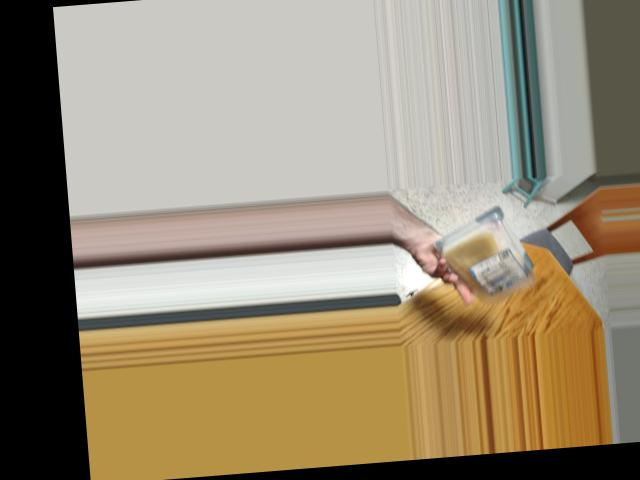cheese: (434, 209, 543, 296)
